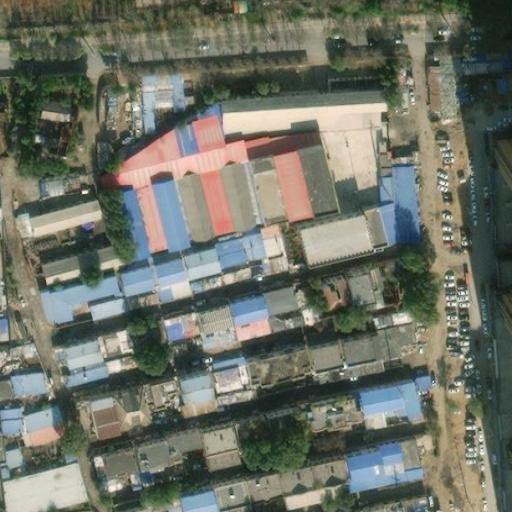building: (105, 102, 215, 166), (486, 242, 512, 512), (289, 204, 382, 264), (304, 124, 367, 206), (217, 100, 375, 132), (0, 457, 83, 512), (203, 134, 256, 220), (35, 268, 113, 323), (165, 165, 210, 249), (98, 187, 144, 266), (32, 240, 115, 280), (6, 194, 94, 231), (238, 340, 308, 385), (132, 68, 177, 137), (287, 141, 330, 213), (145, 177, 184, 255), (207, 154, 249, 226), (360, 298, 413, 355), (126, 182, 163, 259), (241, 153, 281, 222), (265, 147, 303, 218), (483, 147, 512, 234), (350, 380, 402, 427), (191, 161, 224, 232), (235, 127, 308, 159), (384, 147, 410, 236), (25, 92, 67, 145), (365, 140, 388, 236), (371, 432, 415, 481), (287, 272, 338, 313), (334, 445, 380, 490), (269, 461, 313, 508), (9, 401, 60, 440), (167, 369, 210, 415), (191, 418, 233, 465), (199, 352, 245, 394), (85, 441, 130, 480), (304, 454, 343, 499), (45, 334, 95, 369), (239, 222, 282, 261), (320, 390, 358, 434), (337, 264, 374, 306), (28, 165, 88, 190), (331, 326, 371, 363), (108, 259, 150, 294), (79, 392, 113, 435), (159, 426, 198, 463), (205, 476, 245, 512), (205, 235, 246, 270), (128, 434, 166, 470), (104, 385, 139, 424), (0, 366, 44, 397), (393, 373, 425, 415), (132, 481, 175, 512), (152, 307, 194, 338), (170, 481, 212, 512), (144, 251, 182, 285), (221, 291, 261, 323), (482, 130, 512, 172), (239, 469, 275, 504), (51, 359, 99, 385), (89, 323, 129, 354), (159, 330, 199, 361), (259, 406, 299, 437), (301, 336, 337, 370), (255, 282, 292, 315), (226, 315, 266, 345), (0, 336, 37, 368), (194, 322, 232, 353), (225, 414, 264, 444), (94, 345, 134, 374), (176, 244, 211, 277), (188, 300, 226, 330), (261, 307, 298, 337), (82, 287, 118, 317), (246, 252, 287, 278), (140, 377, 173, 408), (207, 384, 251, 407), (148, 277, 186, 303), (326, 308, 364, 334), (124, 316, 157, 345), (297, 397, 326, 430), (214, 261, 251, 286), (182, 269, 218, 294), (422, 59, 441, 105), (0, 307, 27, 339), (490, 286, 512, 325), (120, 158, 145, 187), (98, 75, 112, 125), (391, 492, 424, 512), (298, 324, 331, 343), (354, 499, 394, 512), (105, 500, 137, 512)
